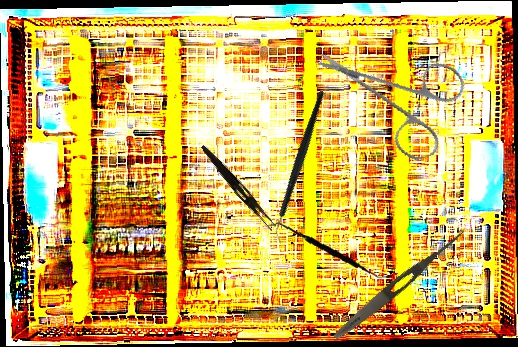Chopper: (230, 90, 371, 245)
Dressing Forceps: (330, 225, 468, 344), (196, 143, 280, 232)
Iris Scissors: (313, 12, 483, 182)
Spatula Surgical: (267, 212, 391, 291)
